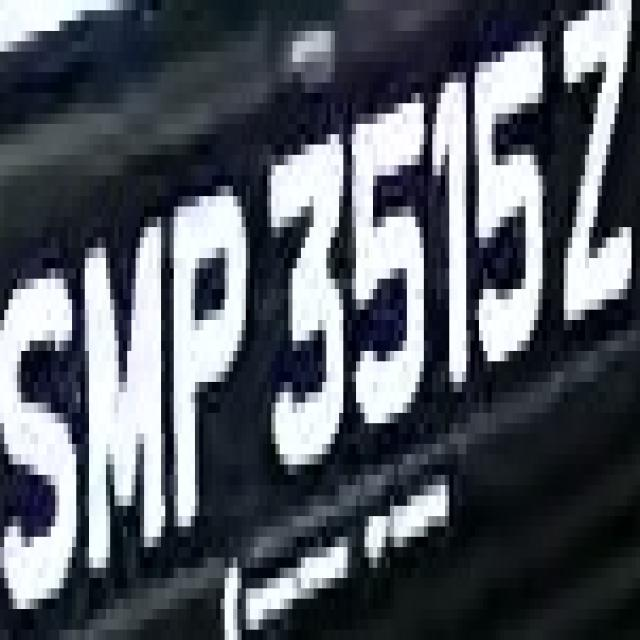1: (428, 31, 479, 454)
3: (267, 124, 348, 506)
5: (470, 41, 560, 382), (343, 93, 428, 444)
M: (81, 217, 178, 588)
P: (161, 155, 250, 568)
S: (12, 227, 84, 619)
Z: (563, 0, 635, 361)
